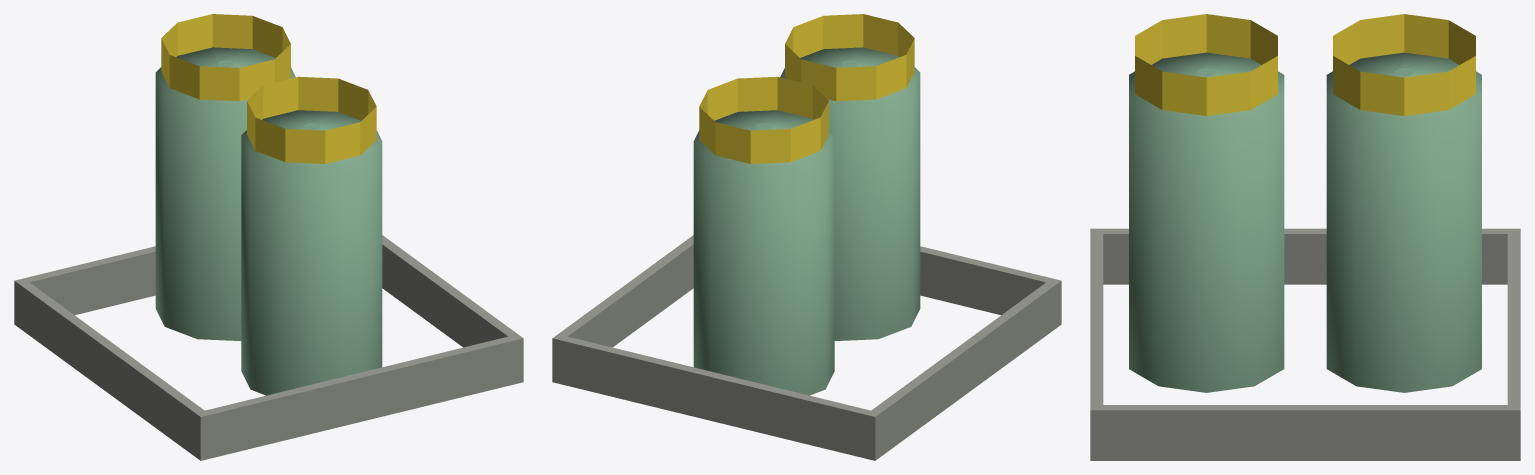
Rendered from port_cargo3_far.fbx.
The picture shows the model from 3 angles, left to right: view 1: azimuth 30°, elevation 25°; view 2: azimuth 150°, elevation 25°; view 3: azimuth 270°, elevation 25°; orthographic projection. The views are drawn at different scales.
Parts seen in each view (by area): view 1: a402_0_port_cargo3_far; view 2: a402_0_port_cargo3_far; view 3: a402_0_port_cargo3_far.
Part boxes in pixels (box(x1,y1,x2,y2)): a402_0_port_cargo3_far: box(14, 14, 523, 460); a402_0_port_cargo3_far: box(552, 14, 1061, 460); a402_0_port_cargo3_far: box(1090, 14, 1520, 460).
Size of the model in its own units: 10 by 8.32 by 10.
